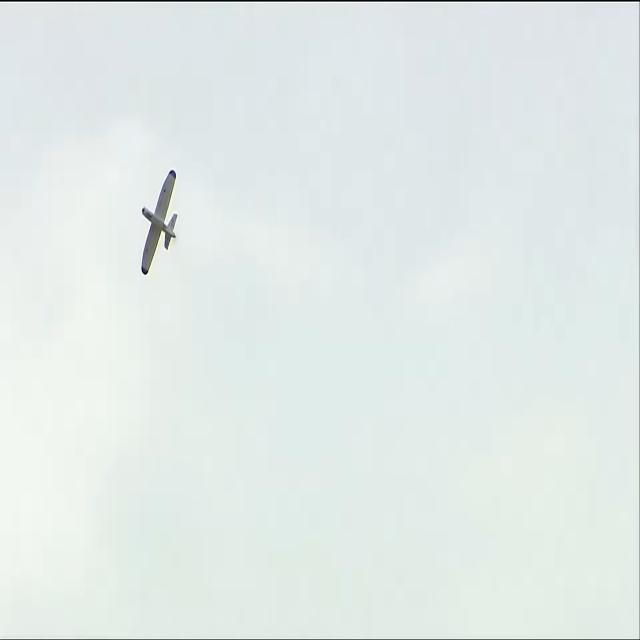iha: (139, 200, 180, 245)
